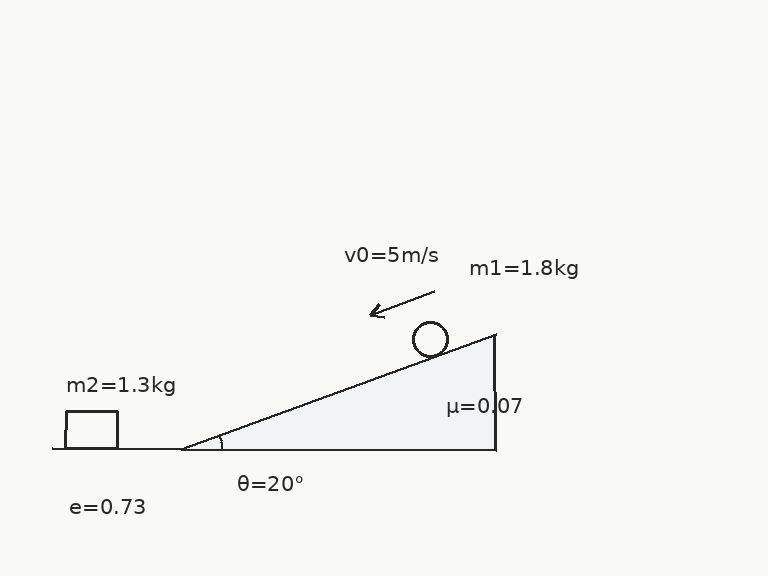ball: (410, 319, 450, 359)
block: (63, 409, 119, 450)
ramp: (180, 332, 497, 450)
